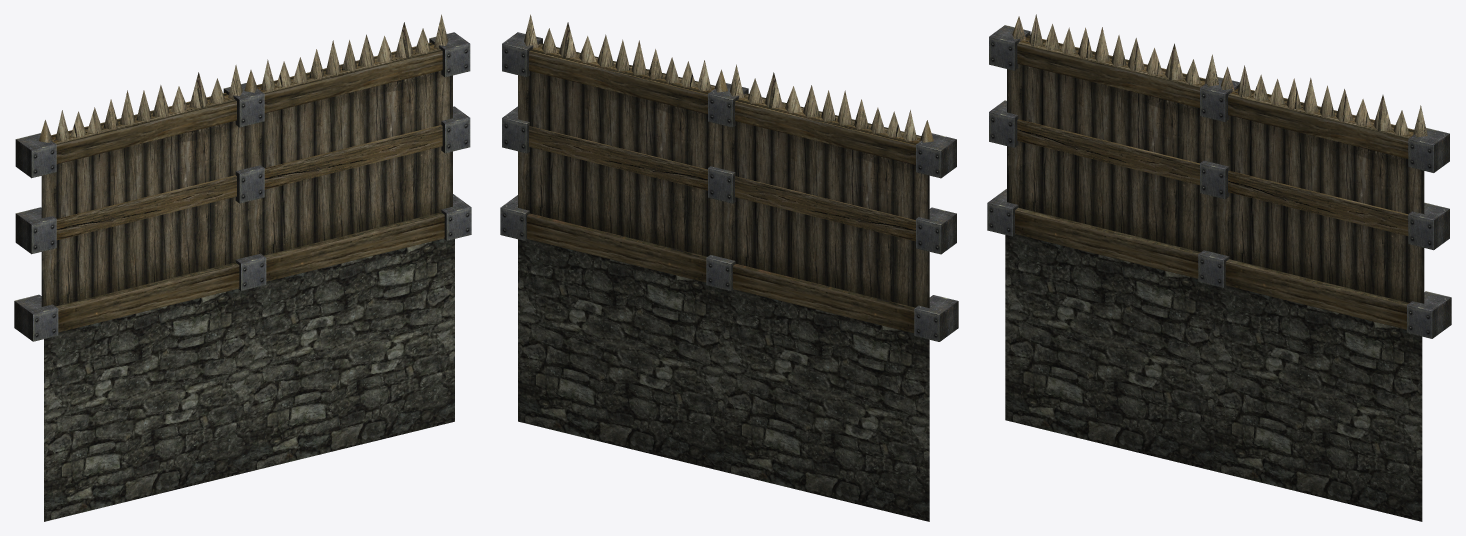
File: fortms_fence_body02.glb
The picture shows the model from 3 angles, left to right: view 1: azimuth 30°, elevation 25°; view 2: azimuth 150°, elevation 25°; view 3: azimuth 330°, elevation 25°; orthographic projection.
Parts seen in each view (by area): view 1: fortMS_fence_body02; view 2: fortMS_fence_body02; view 3: fortMS_fence_body02.
Boxes of the visible parts, bbox=[...] form: fortMS_fence_body02: bbox=[14, 14, 471, 521]; fortMS_fence_body02: bbox=[500, 14, 958, 521]; fortMS_fence_body02: bbox=[987, 14, 1451, 521].
Size of the model in its own units: 10.48 by 9.28 by 0.7823.
Materials: 1 (1 with a texture image).
